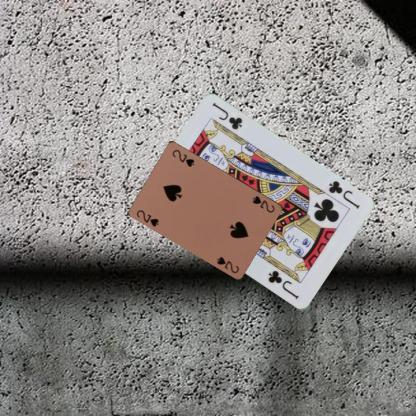2s: (134, 206, 160, 228), (250, 193, 276, 214)
Jc: (325, 178, 361, 210)
